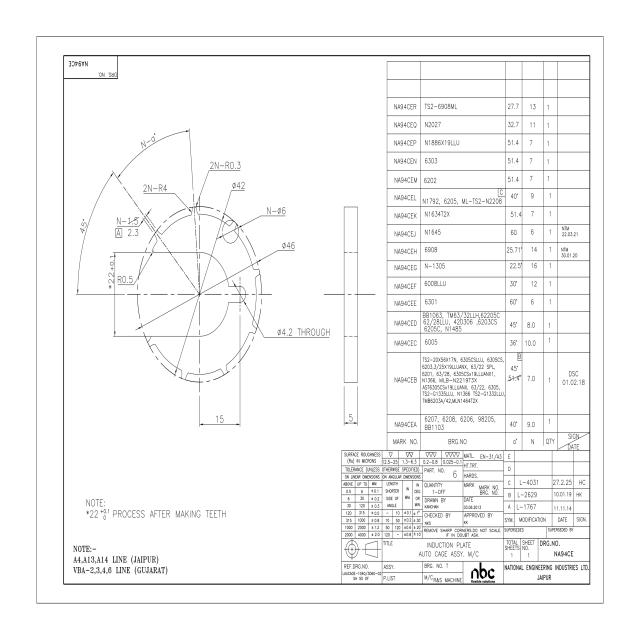dimension: (275, 325, 331, 337), (116, 216, 140, 237), (209, 159, 242, 170), (142, 182, 170, 194), (107, 251, 115, 291), (140, 131, 157, 149), (265, 204, 287, 216), (78, 217, 90, 234), (116, 274, 134, 284), (281, 240, 296, 250), (232, 181, 246, 191), (215, 413, 226, 424), (348, 413, 353, 422)
